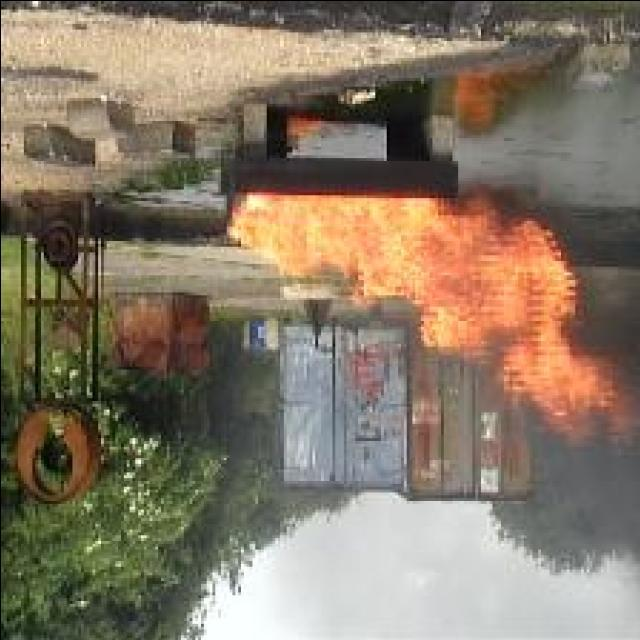Fire: (225, 193, 638, 450)
